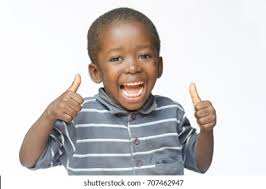person: (86, 7, 163, 112)
